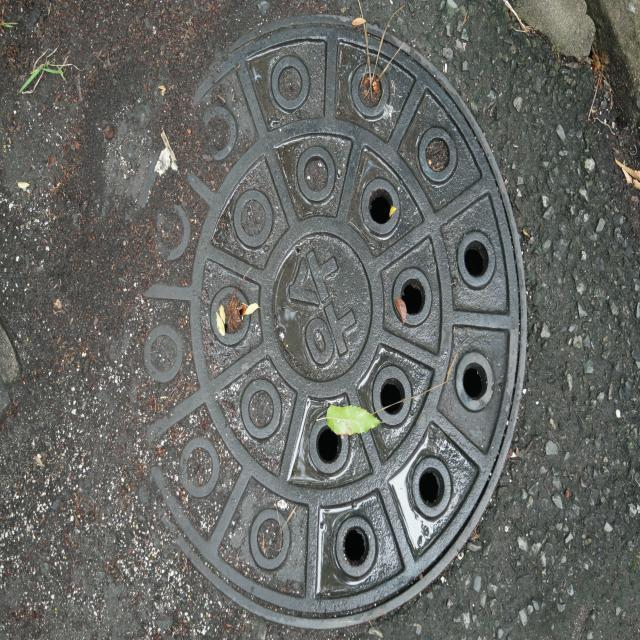manhole: (100, 15, 526, 628)
